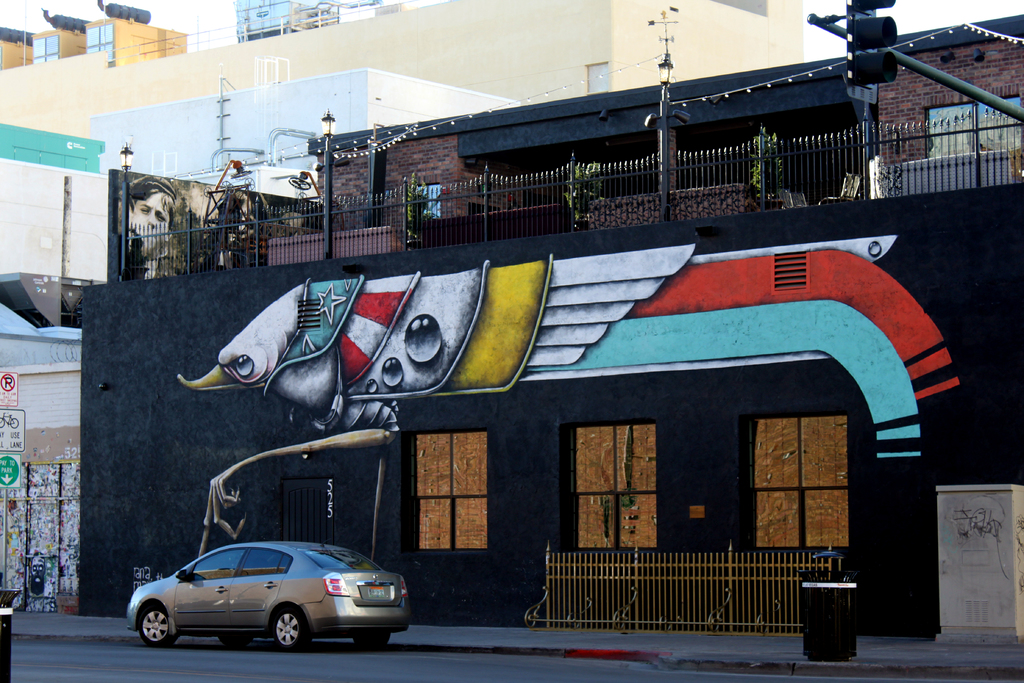Car: (126, 542, 410, 650)
